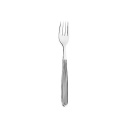fork: (49, 16, 79, 98)
